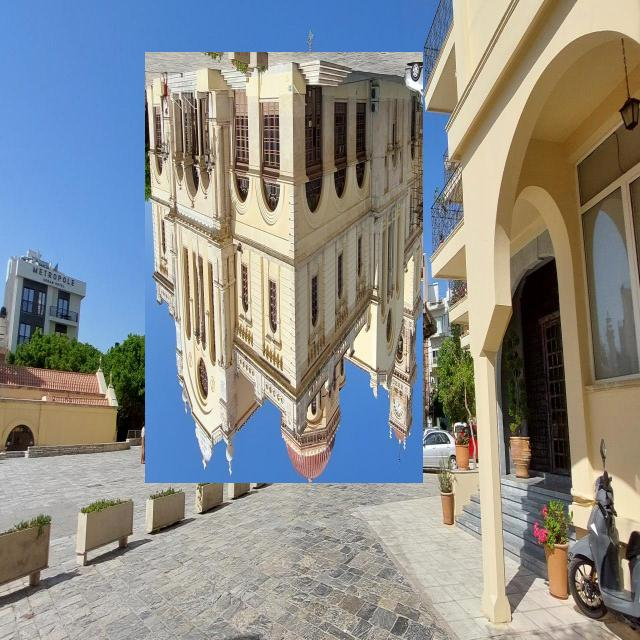Agios Minas: (146, 53, 424, 484)
